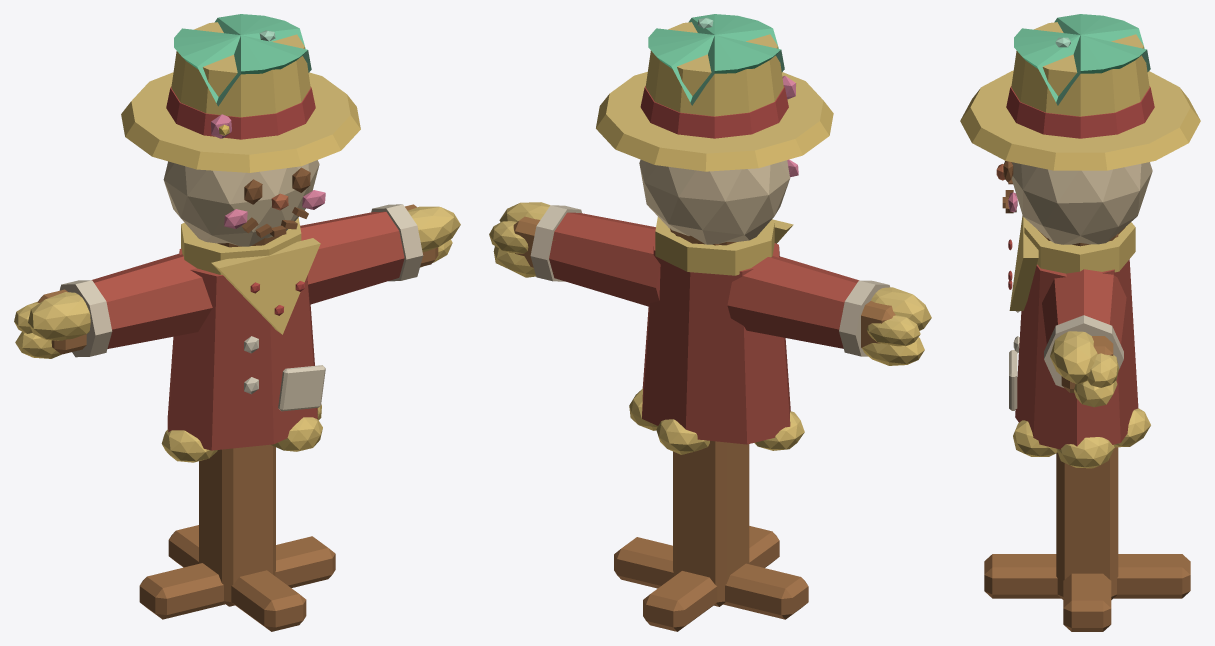
File: ranch_scarecrow.fbx
3 views of the same model, side by side, from view 1: azimuth 30°, elevation 25°; view 2: azimuth 150°, elevation 25°; view 3: azimuth 270°, elevation 25° (orthographic).
Visible parts, largest first — view 1: ranch_scarecrow; view 2: ranch_scarecrow; view 3: ranch_scarecrow.
Boxes of the visible parts, x1,y1,x2,y2 form: ranch_scarecrow: (14, 14, 460, 631); ranch_scarecrow: (489, 14, 931, 631); ranch_scarecrow: (960, 14, 1200, 631).
Size of the model in its own units: 7.18 by 9.03 by 3.5.
